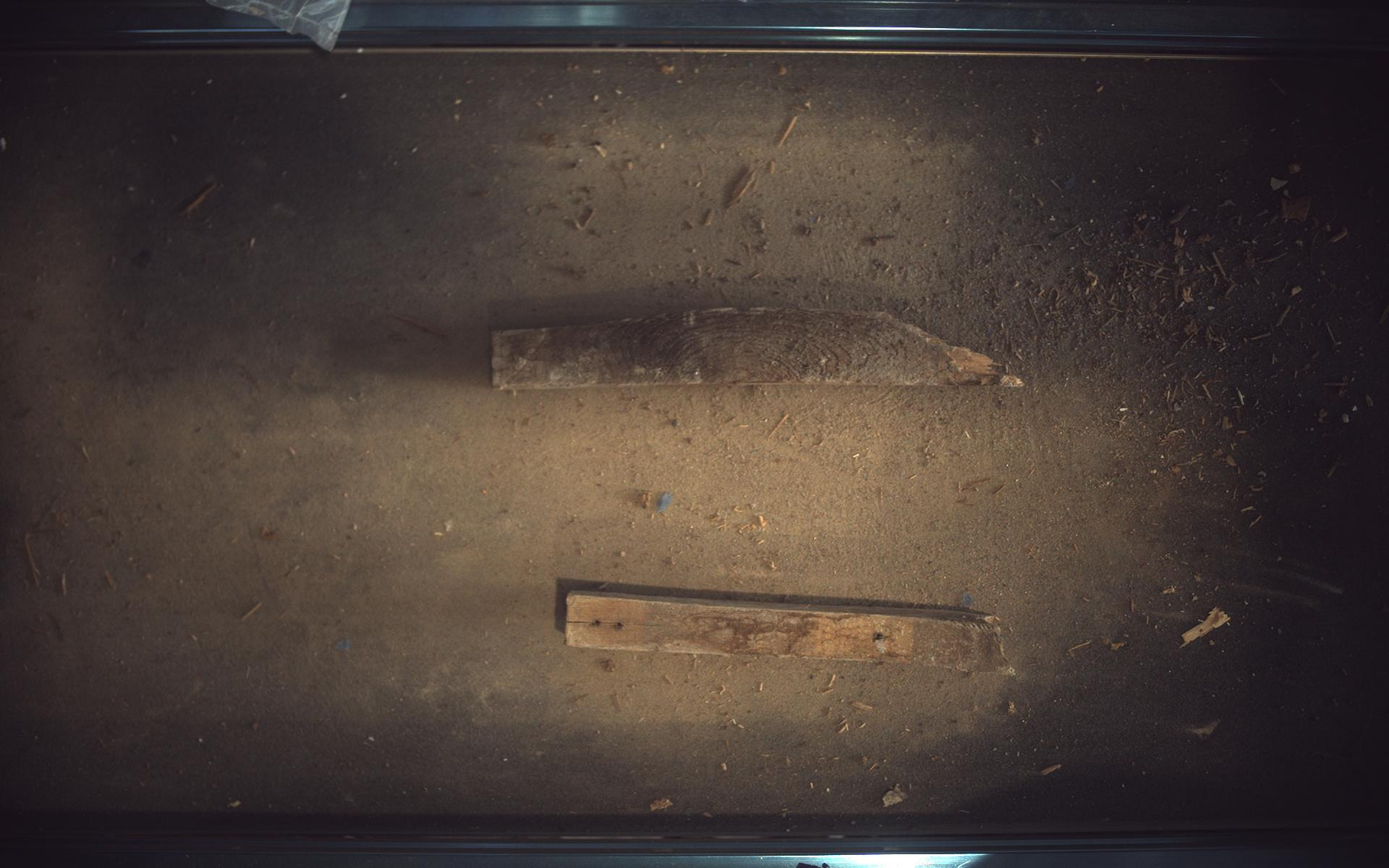wood: (492, 307, 1025, 390), (560, 584, 1015, 675)
